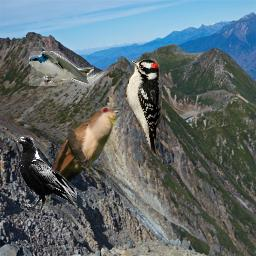Crow: (15, 135, 77, 214)
Cuckoo: (37, 105, 123, 206)
Swallow: (29, 51, 94, 86)
Woodpecker: (124, 59, 162, 156)
